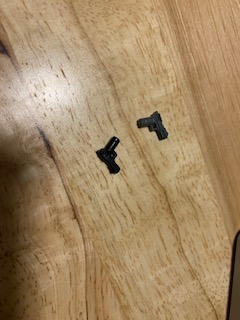pistol: (93, 136, 124, 176), (134, 111, 169, 144)
